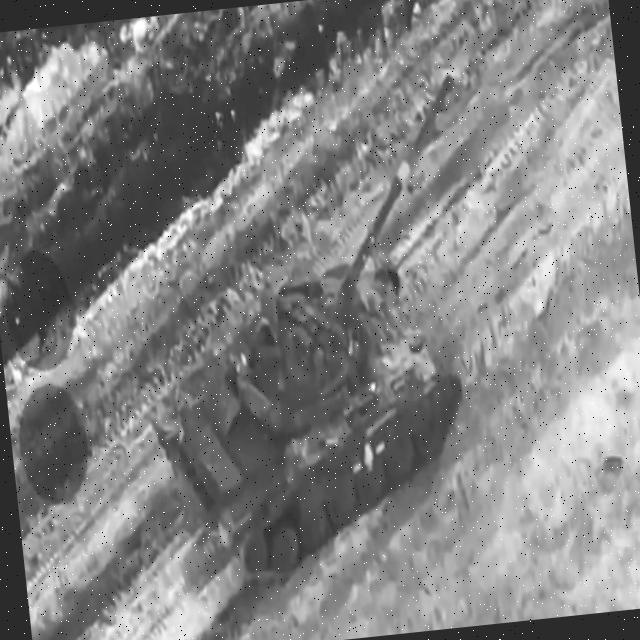MBT: (117, 74, 514, 592)
